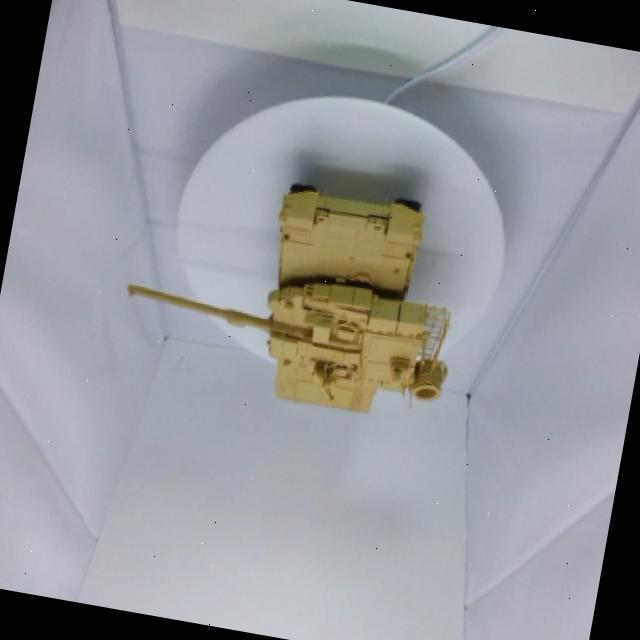korea tank: (92, 118, 516, 475)
